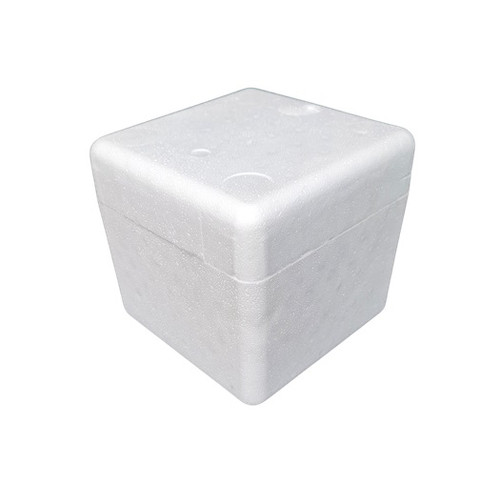Boxes: (90, 88, 414, 404)
